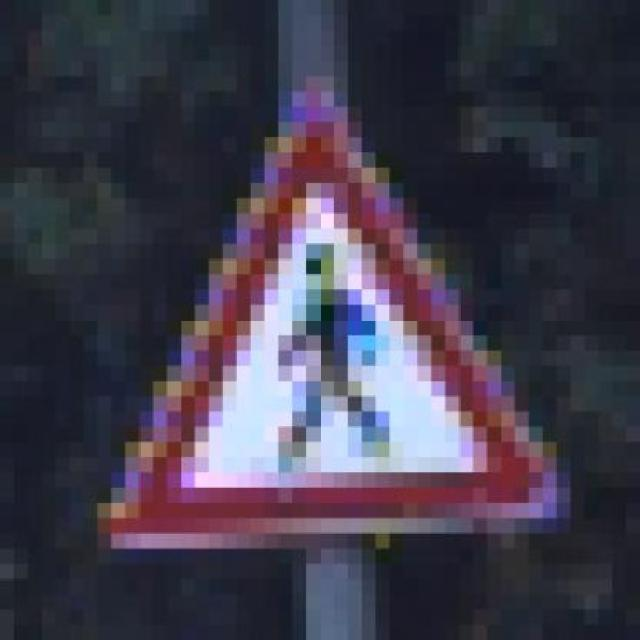Pedestrian Crossing: (94, 98, 568, 570)
